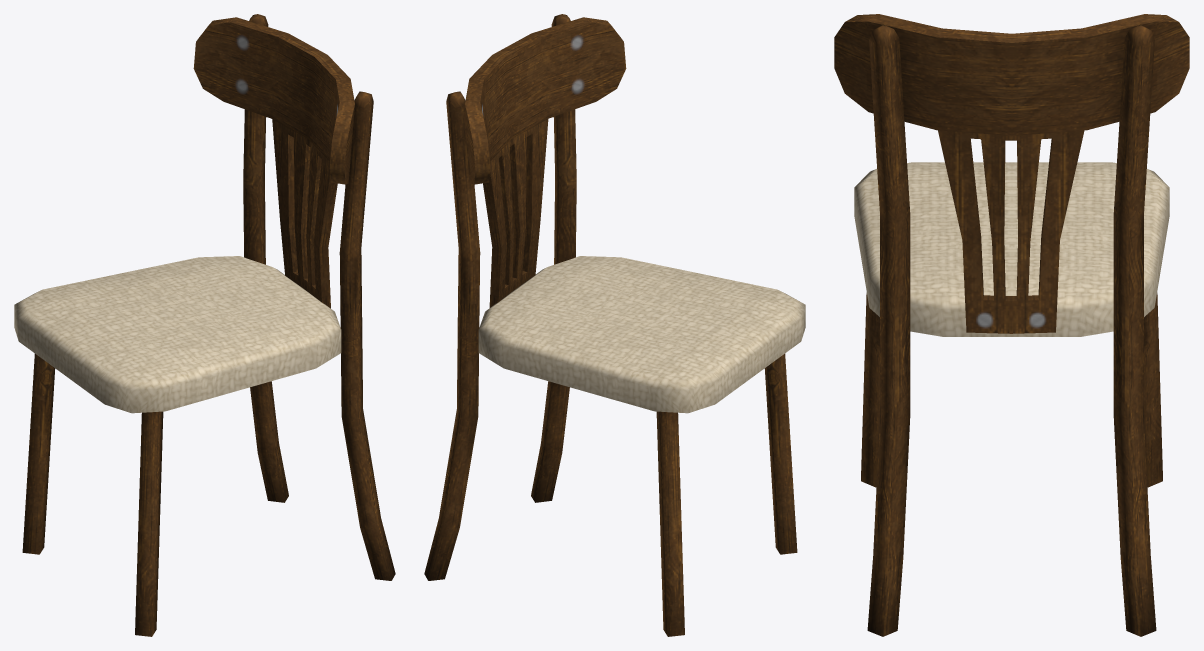
File: Vin_ChairCafe.fbx
The picture shows the model from 3 angles, left to right: view 1: azimuth 30°, elevation 25°; view 2: azimuth 150°, elevation 25°; view 3: azimuth 270°, elevation 25°; orthographic projection. The views are drawn at different scales.
Visible parts, largest first — view 1: Vin_ChairCafe; view 2: Vin_ChairCafe; view 3: Vin_ChairCafe.
Part boxes in pixels (box(x1,y1,x2,y2)): Vin_ChairCafe: box(14, 14, 395, 636); Vin_ChairCafe: box(424, 14, 805, 636); Vin_ChairCafe: box(834, 14, 1189, 636).
Size of the model in its own units: 59.65 by 99.42 by 54.06.
